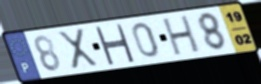0: (130, 20, 163, 60)
8: (196, 10, 228, 52), (33, 34, 62, 72)
H: (93, 23, 137, 66), (161, 13, 203, 58)
X: (55, 27, 101, 72)
